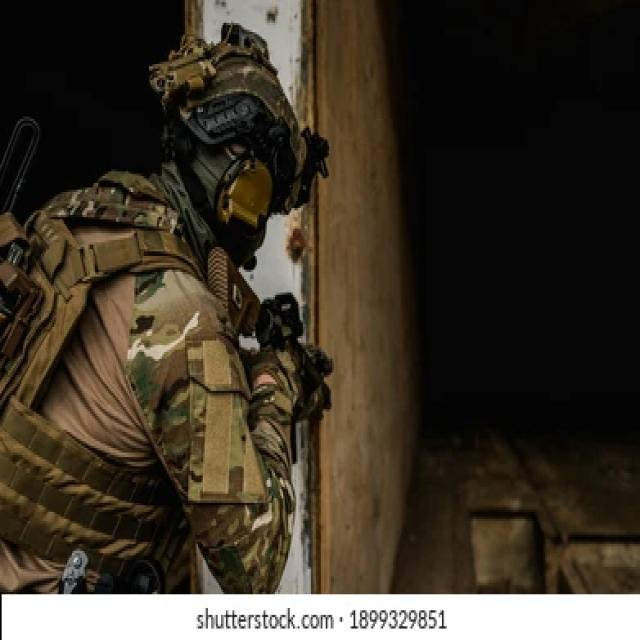soldier: (3, 45, 356, 591)
